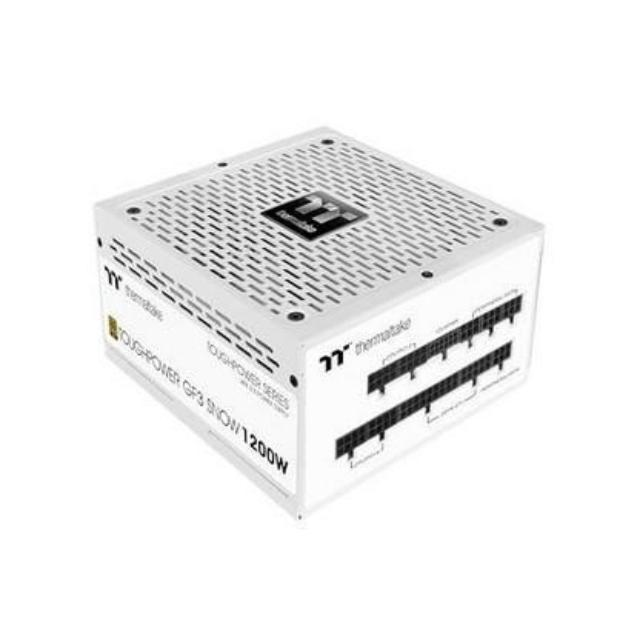PSU: (88, 113, 554, 507)
